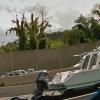Boat: (40, 44, 98, 99)
